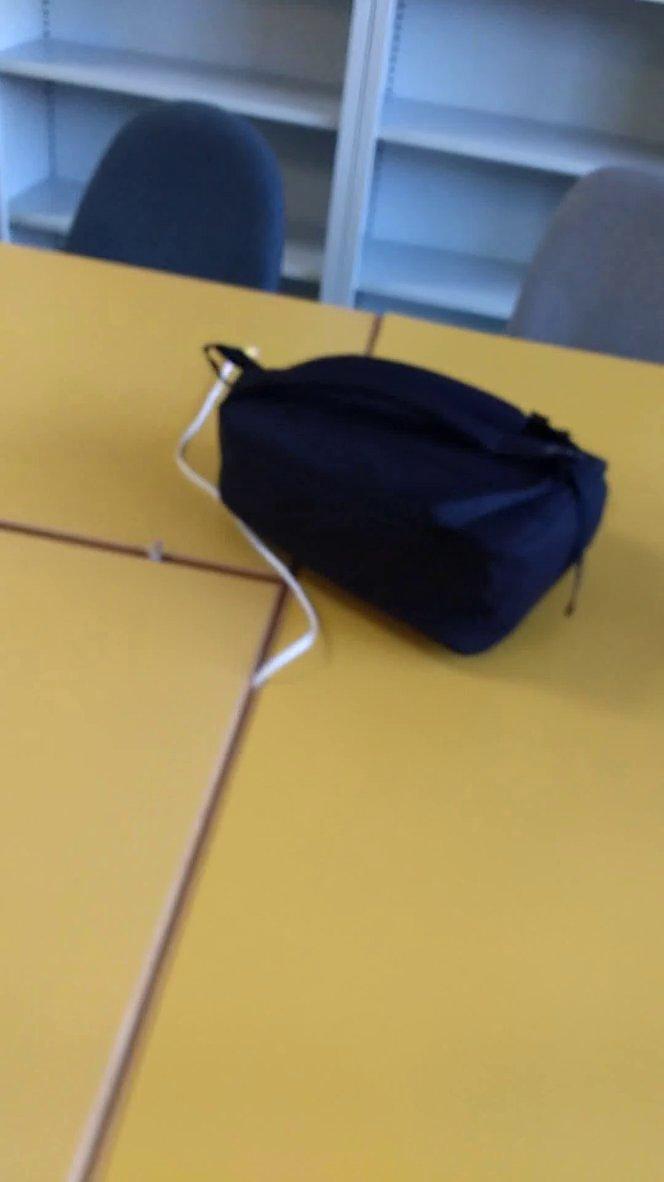bag: (193, 326, 624, 694)
chair: (49, 83, 305, 307), (498, 144, 664, 378)
